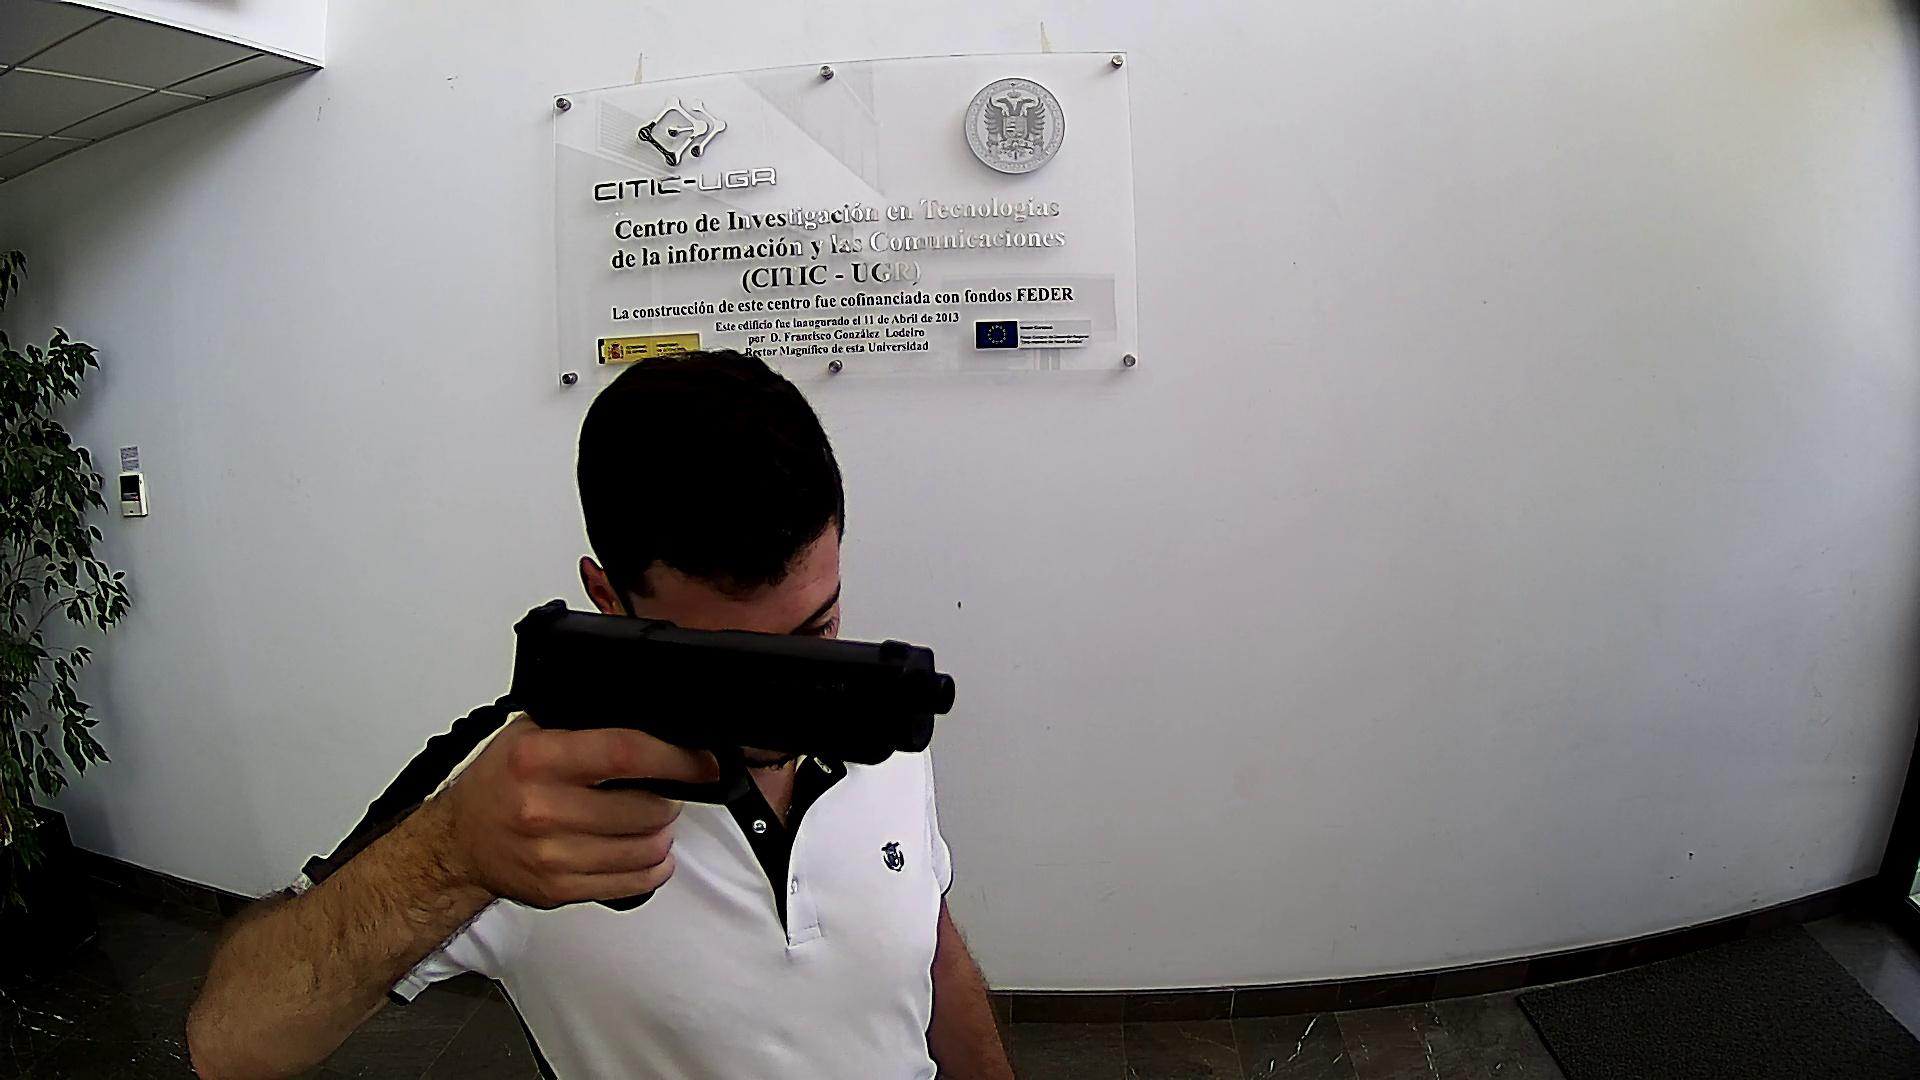criminal: (187, 348, 1014, 1080)
weapon: (513, 596, 957, 913)
